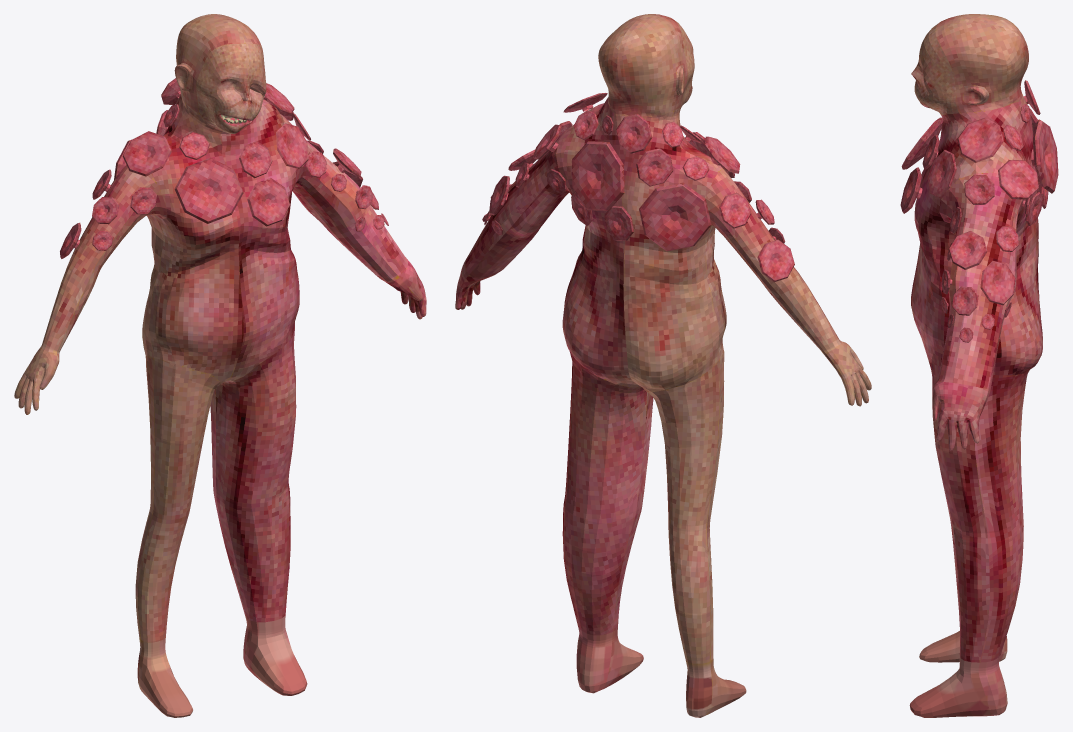
The model's file is blind shit (1).fbx.
3 renders of one model, left to right at view 1: azimuth 30°, elevation 25°; view 2: azimuth 150°, elevation 25°; view 3: azimuth 270°, elevation 25°, orthographic.
Visible parts, largest first — view 1: Cube.023, Cube.024, Cube.029, Cube.027, Cube.026, Cube.061; view 2: Cube.023, Cube.062, Cube.064, Cube.051, Cube.066, Cube.065, Cube.050, Cube.063, Cube.029; view 3: Cube.023, Cube.034, Cube.064, Cube.072, Cube.084, Cube.076, Cube.026, Cube.074, Cube.024, Cube.083, Cube.027, Cube.073 (+3 smaller).
Boxes of the visible parts, left/top/right/bottom form: Cube.023: left=14, top=14, right=426, bottom=717; Cube.024: left=174, top=157, right=243, bottom=223; Cube.029: left=122, top=131, right=171, bottom=176; Cube.027: left=247, top=178, right=289, bottom=226; Cube.026: left=276, top=123, right=308, bottom=168; Cube.061: left=239, top=141, right=272, bottom=178; Cube.023: left=455, top=14, right=871, bottom=717; Cube.062: left=639, top=182, right=711, bottom=251; Cube.064: left=571, top=141, right=624, bottom=210; Cube.051: left=757, top=239, right=794, bottom=282; Cube.066: left=616, top=113, right=652, bottom=153; Cube.065: left=636, top=148, right=673, bottom=186; Cube.050: left=719, top=192, right=751, bottom=228; Cube.063: left=604, top=206, right=633, bottom=240; Cube.029: left=704, top=136, right=740, bottom=173; Cube.023: left=909, top=14, right=1042, bottom=717; Cube.034: left=957, top=117, right=1003, bottom=162; Cube.064: left=1031, top=119, right=1058, bottom=193; Cube.072: left=998, top=160, right=1038, bottom=199; Cube.084: left=980, top=261, right=1015, bottom=305; Cube.076: left=948, top=231, right=987, bottom=269; Cube.026: left=927, top=150, right=956, bottom=197; Cube.074: left=964, top=175, right=994, bottom=204; Cube.024: left=901, top=117, right=943, bottom=169; Cube.083: left=952, top=286, right=978, bottom=315; Cube.027: left=900, top=167, right=922, bottom=213; Cube.073: left=996, top=226, right=1018, bottom=251.
Bounding box in the file's own units: 91.82 × 147 × 31.18.
Materials: 1 (1 with a texture image).
